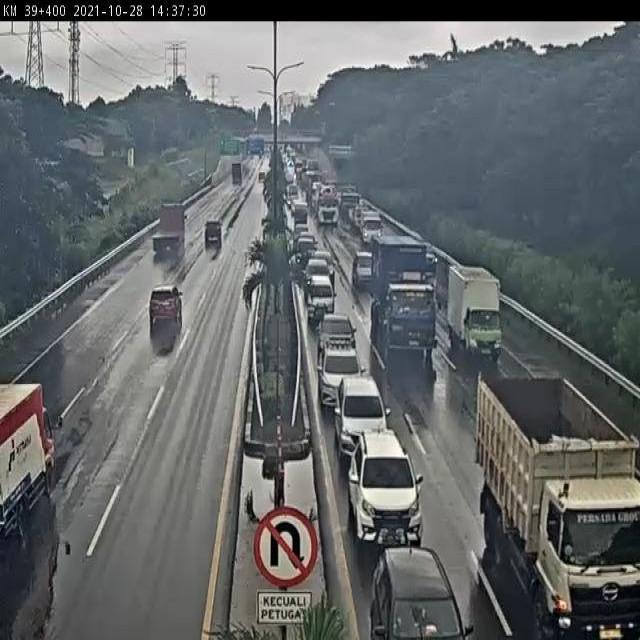car: (373, 545, 470, 640), (349, 446, 420, 546), (338, 377, 388, 448), (320, 347, 364, 411), (313, 311, 357, 363), (148, 288, 186, 330), (304, 255, 334, 307), (305, 270, 334, 314), (305, 256, 332, 284), (361, 215, 385, 245), (295, 232, 318, 255), (291, 200, 309, 225), (321, 186, 342, 206), (303, 160, 321, 182), (293, 207, 309, 230)
truck: (472, 370, 640, 640), (368, 250, 439, 369), (434, 260, 502, 354), (151, 201, 187, 276), (204, 216, 222, 254)
